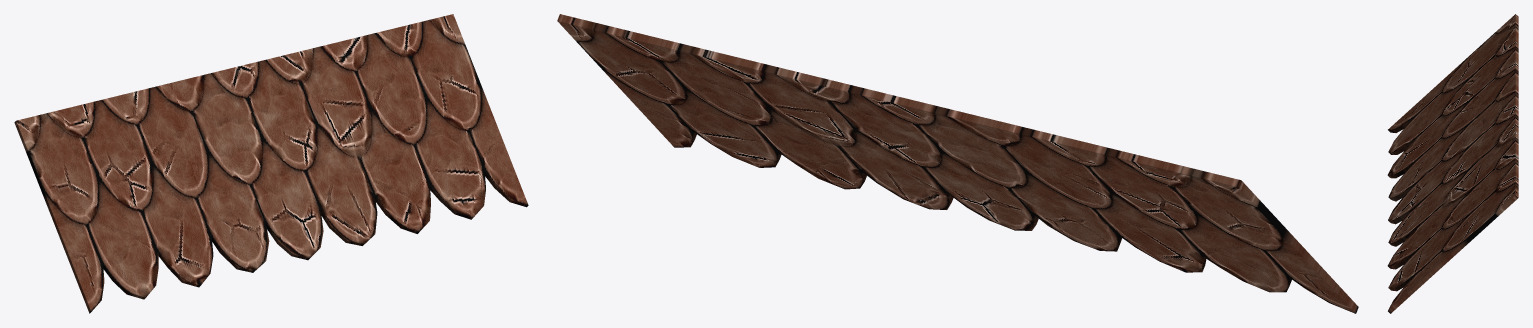
File: GenHouseRoofTrim.fbx
The picture shows the model from 3 angles, left to right: view 1: azimuth 30°, elevation 25°; view 2: azimuth 150°, elevation 25°; view 3: azimuth 270°, elevation 25°; orthographic projection. The views are drawn at different scales.
Parts seen in each view (by area): view 1: GenHouse_Mod_Rooftrim; view 2: GenHouse_Mod_Rooftrim; view 3: GenHouse_Mod_Rooftrim.
Part boxes in pixels (left/top/right/bottom): GenHouse_Mod_Rooftrim: left=14, top=14, right=528, bottom=313; GenHouse_Mod_Rooftrim: left=557, top=14, right=1358, bottom=313; GenHouse_Mod_Rooftrim: left=1387, top=14, right=1518, bottom=313.
Bounding box in the file's own units: 5.27 × 1.61 × 1.61.
